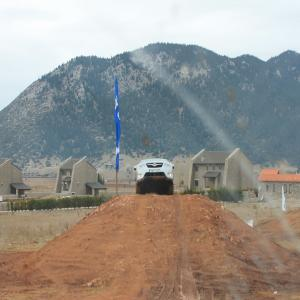Vehicle-registration-plate: (150, 169, 162, 174)
